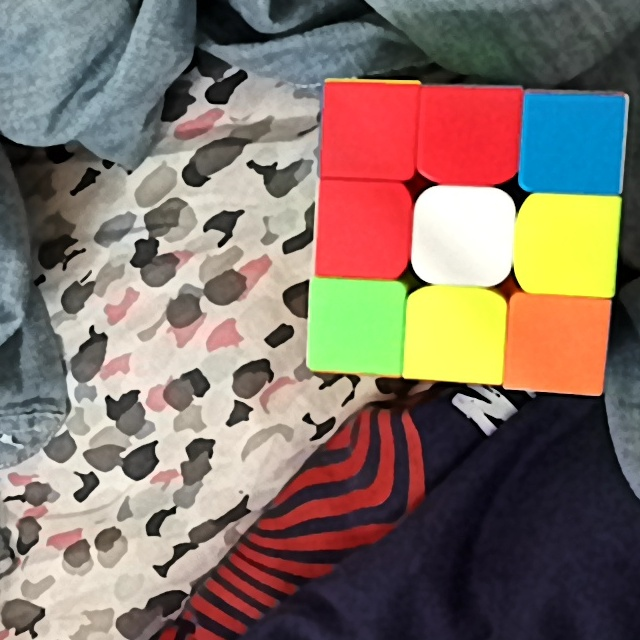tile: (530, 98, 617, 186), (515, 299, 601, 387), (326, 84, 410, 173), (426, 89, 511, 174), (314, 284, 397, 371), (528, 202, 607, 286), (323, 182, 399, 269), (424, 196, 501, 281), (415, 297, 496, 376)
